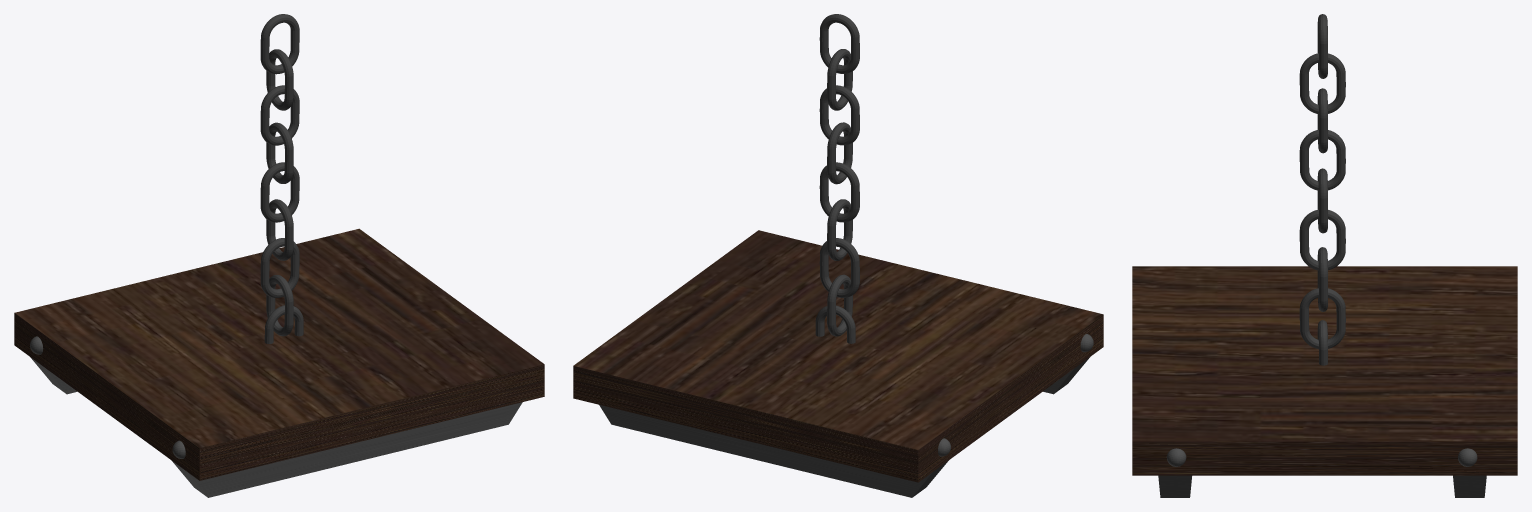
File: trampilla.glb
3 views of the same model, side by side, from view 1: azimuth 30°, elevation 25°; view 2: azimuth 150°, elevation 25°; view 3: azimuth 270°, elevation 25° (orthographic). The views are drawn at different scales.
Visible parts, largest first — view 1: Cubo.058; view 2: Cubo.058; view 3: Cubo.058.
Boxes of the visible parts, <box> form: Cubo.058: <box>14,14,544,497</box>; Cubo.058: <box>573,14,1103,497</box>; Cubo.058: <box>1132,14,1517,497</box>.
Bounding box in the file's own units: 0.4246 × 0.4388 × 0.3783.
16 materials, 7 textured.
